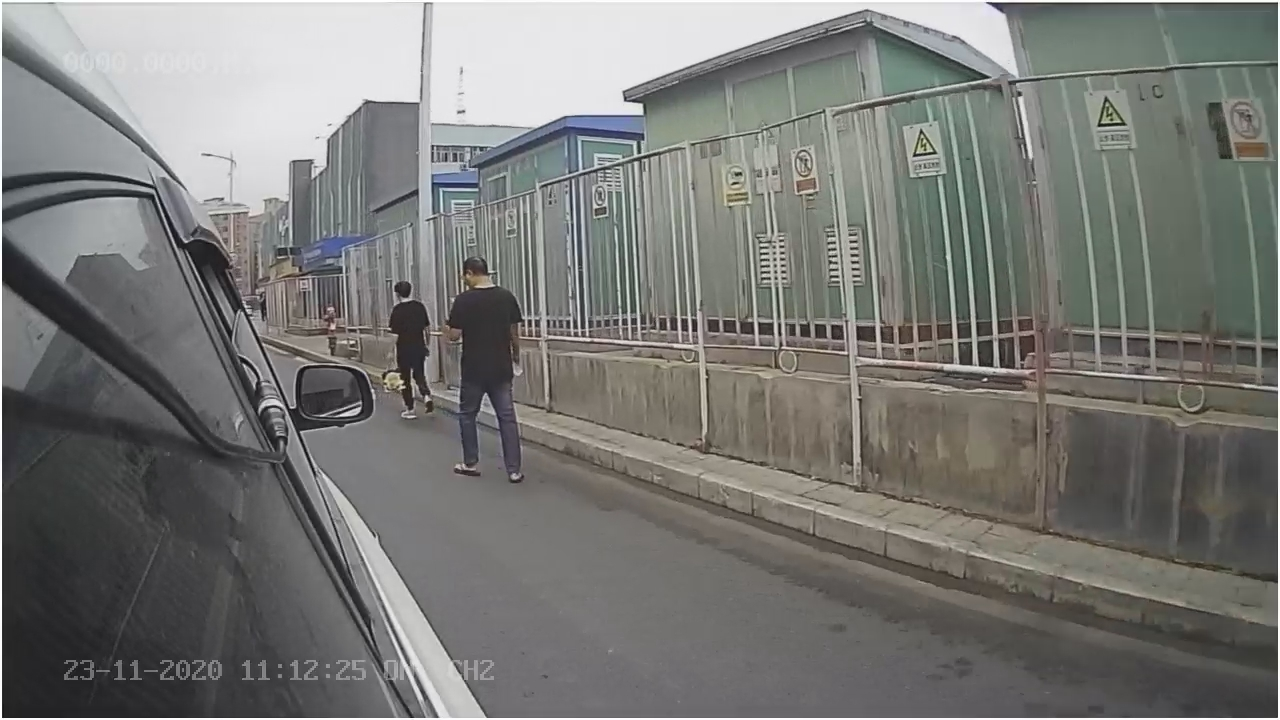person: (440, 254, 534, 485)
